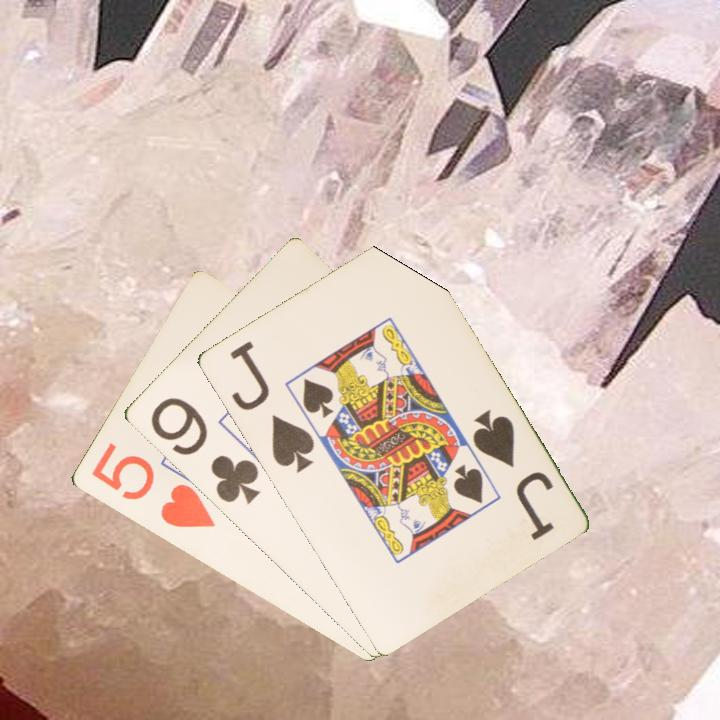5h: (87, 438, 218, 531)
9c: (146, 393, 263, 507)
Js: (225, 337, 317, 476), (468, 405, 557, 544)
